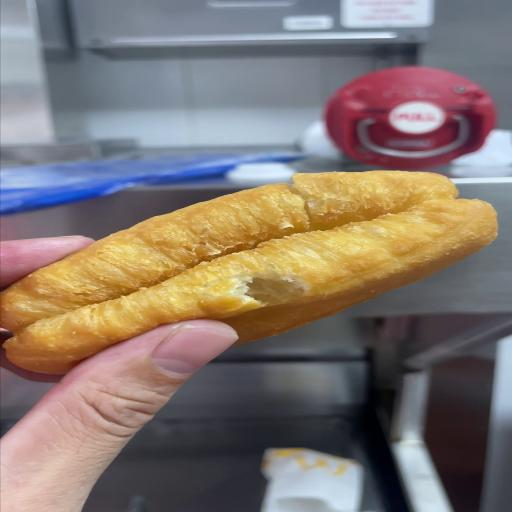brand_golden_defect: (0, 171, 496, 374)
